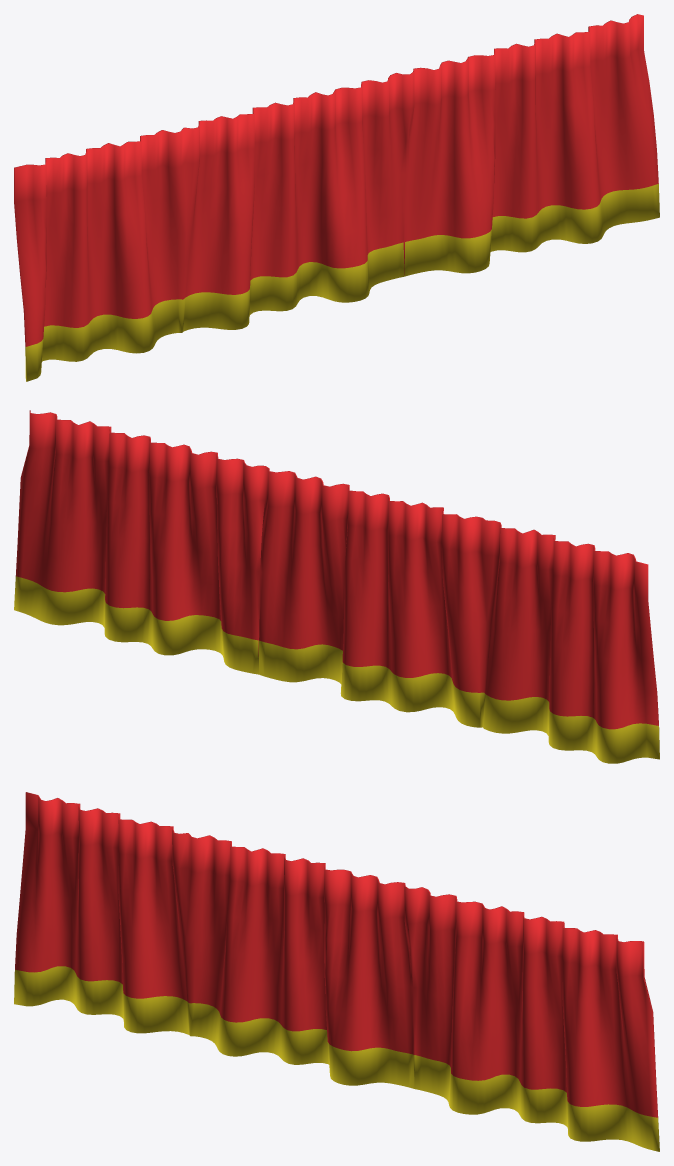
The model's file is Curtain_Test3.fbx.
The picture shows the model from 3 angles, top to bottom: view 1: azimuth 30°, elevation 25°; view 2: azimuth 150°, elevation 25°; view 3: azimuth 330°, elevation 25°; orthographic projection.
Parts seen in each view (by area): view 1: Curtain; view 2: Curtain; view 3: Curtain.
Part boxes in pixels (<box>): Curtain: <box>14,14,659,381</box>; Curtain: <box>14,410,659,763</box>; Curtain: <box>14,792,659,1151</box>.
Size of the model in its own units: 4959 by 1531 by 241.
